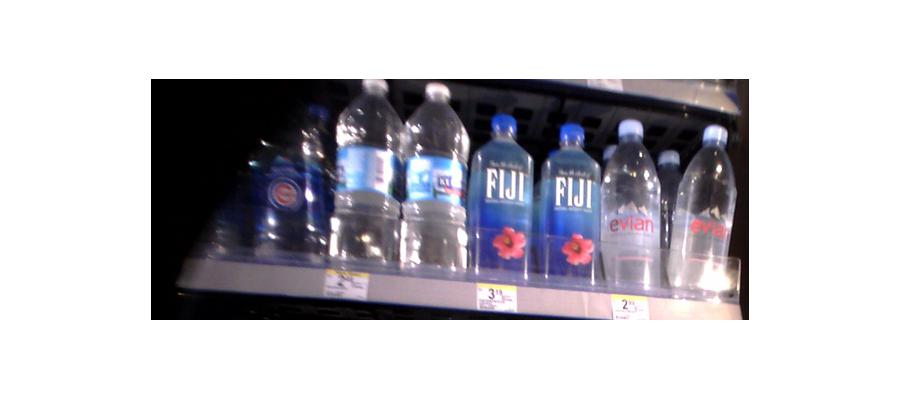bottle: (331, 80, 401, 268), (401, 83, 469, 273), (670, 124, 737, 301), (243, 102, 318, 258), (601, 118, 665, 295), (471, 111, 534, 281), (539, 120, 600, 287)
